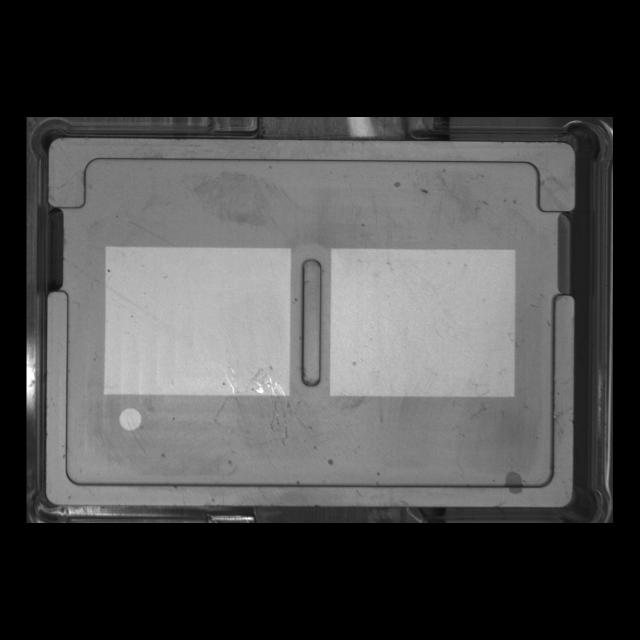door: (39, 126, 583, 224)
point: (114, 403, 148, 434)
